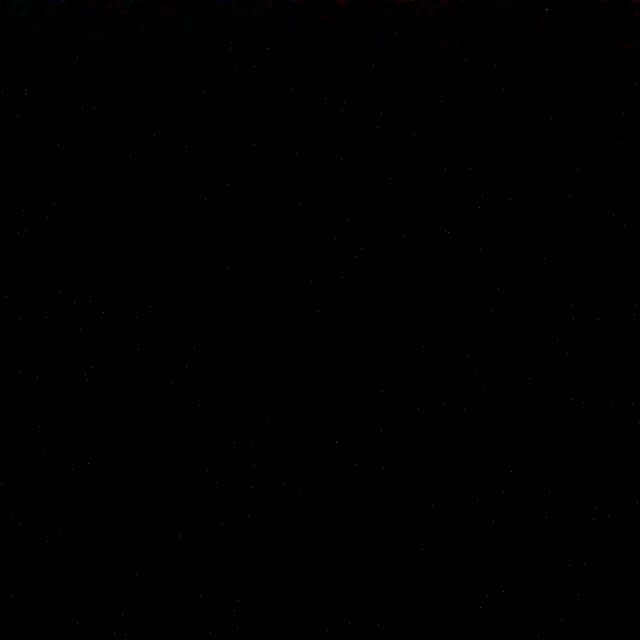stair: (0, 110, 334, 569)
